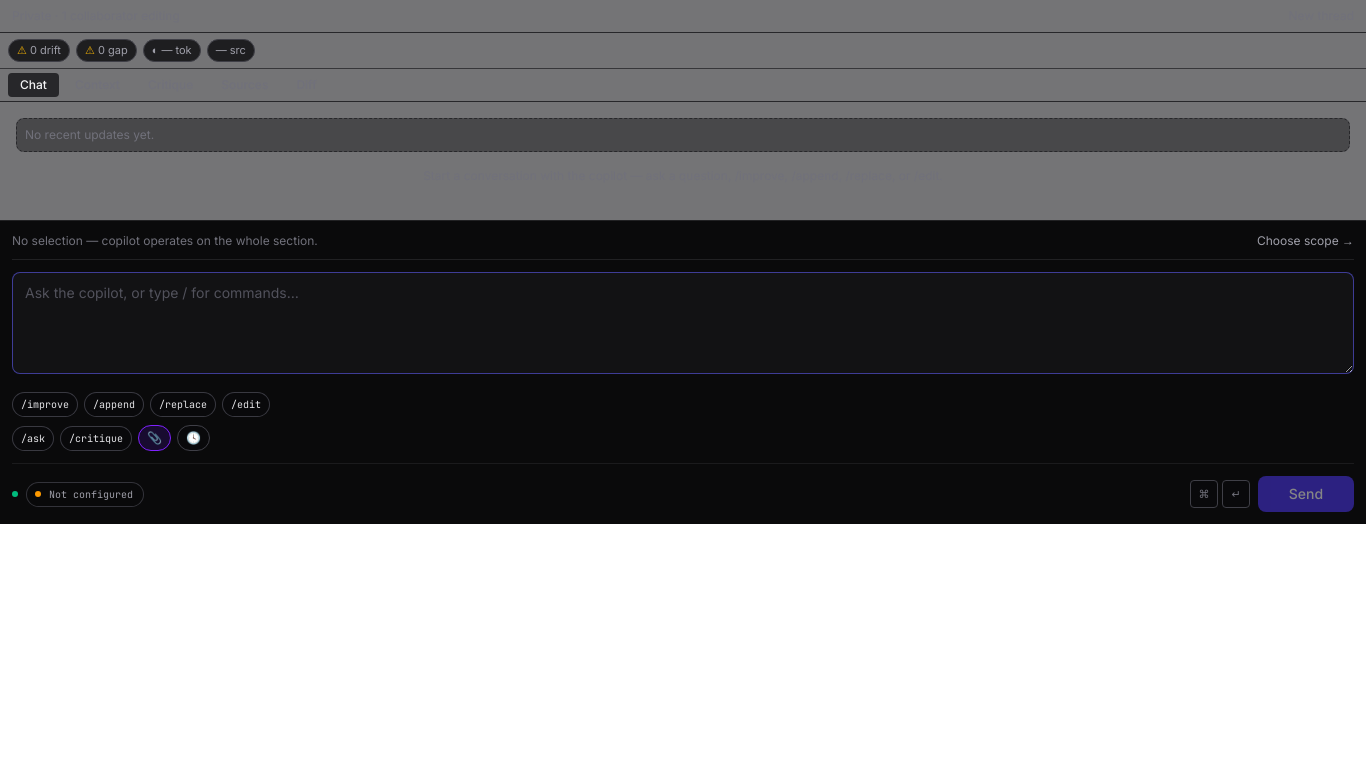
Scenario: ThreadPanel › Apply is disabled when document drifted after proposal
The width and height of the screenshot is (1366, 768).
Type "/edit go" into the text box with placeholder "Ask the copilot, or type / for commands…".
click(683, 323); type("/edit go")  # box x1=12 y1=272 x2=1354 y2=374
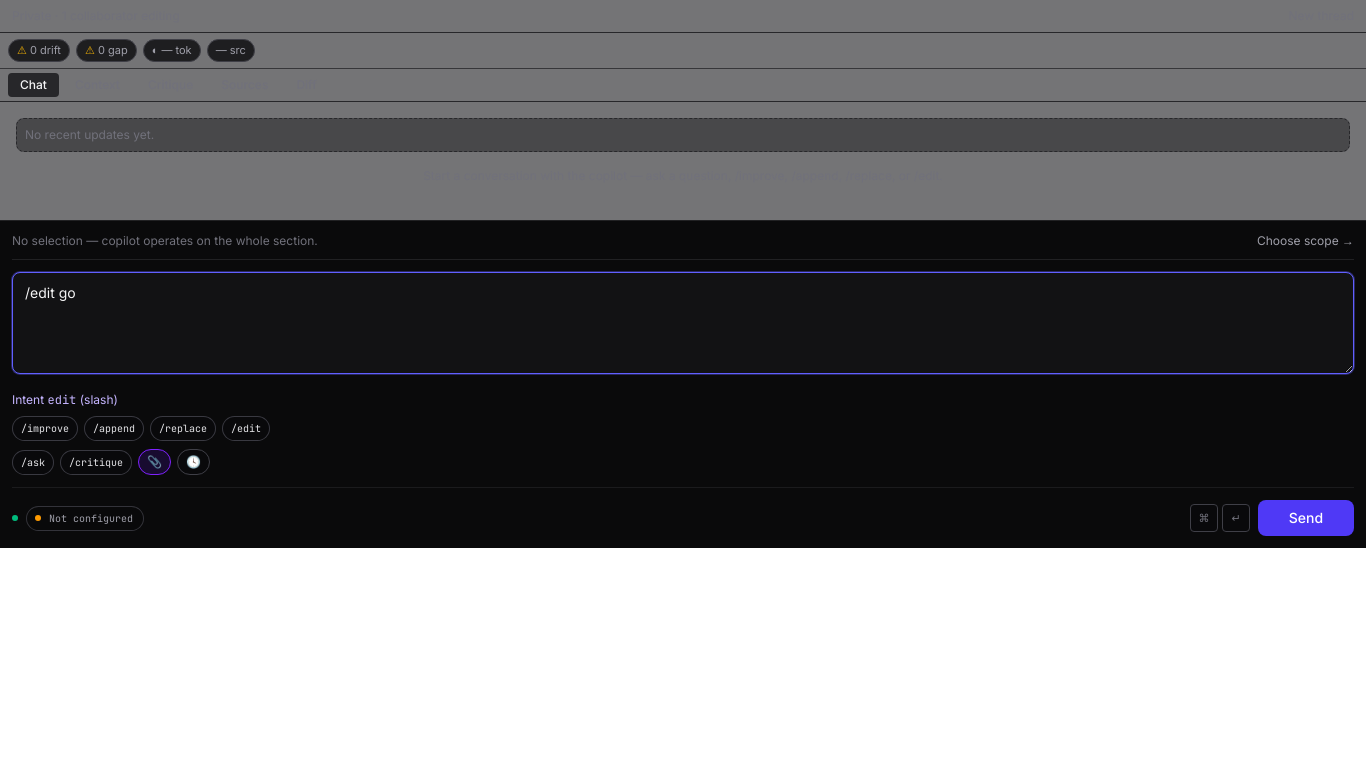
Click the button "Send".
click(1306, 518)  # box x1=1258 y1=500 x2=1354 y2=536
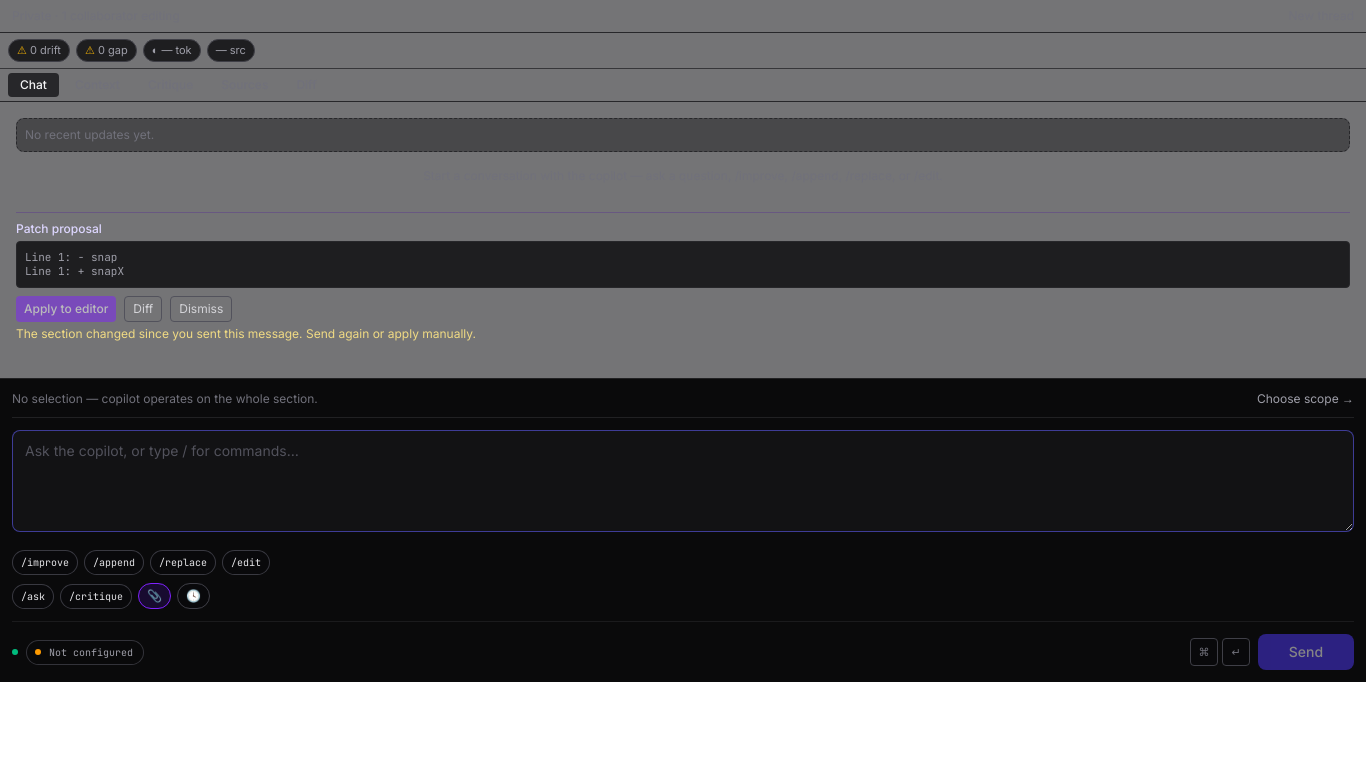
Now the text "Patch proposal" is shown, box x1=16 y1=220 x2=102 y2=236
Now the button "Apply to editor" is disabled, box x1=16 y1=296 x2=116 y2=322
